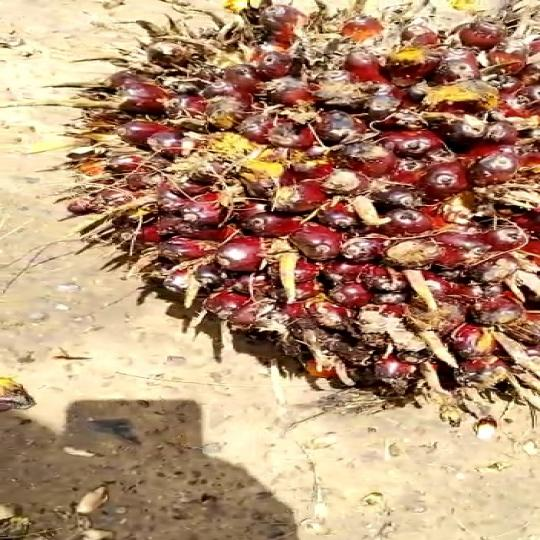masak: (19, 0, 538, 442)
